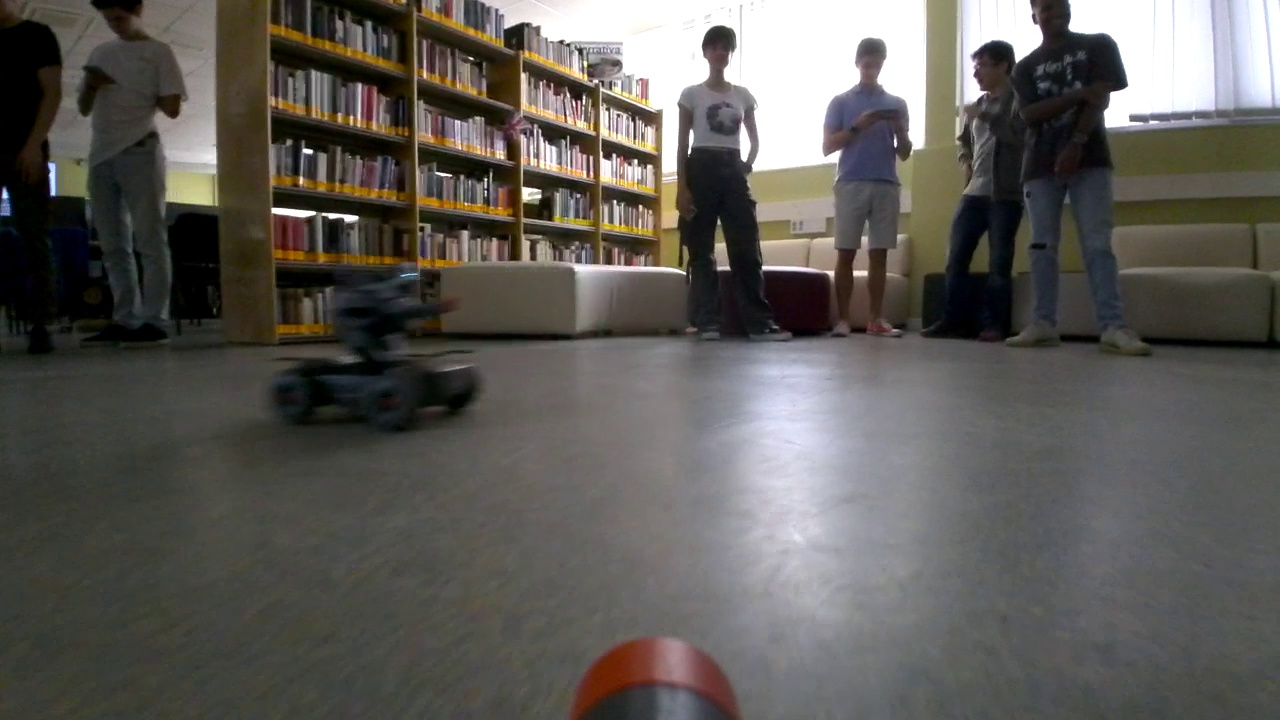robot: (267, 261, 486, 437)
